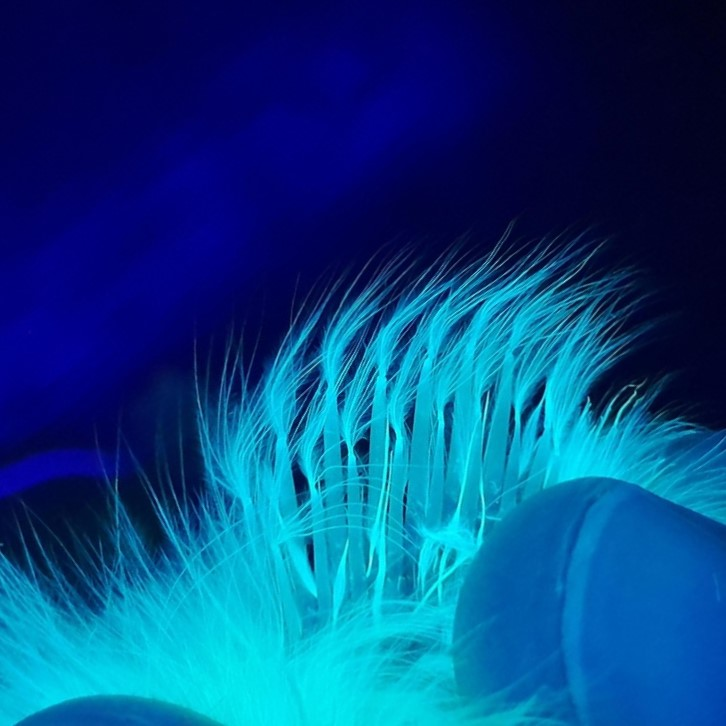female: (236, 327, 586, 658)
